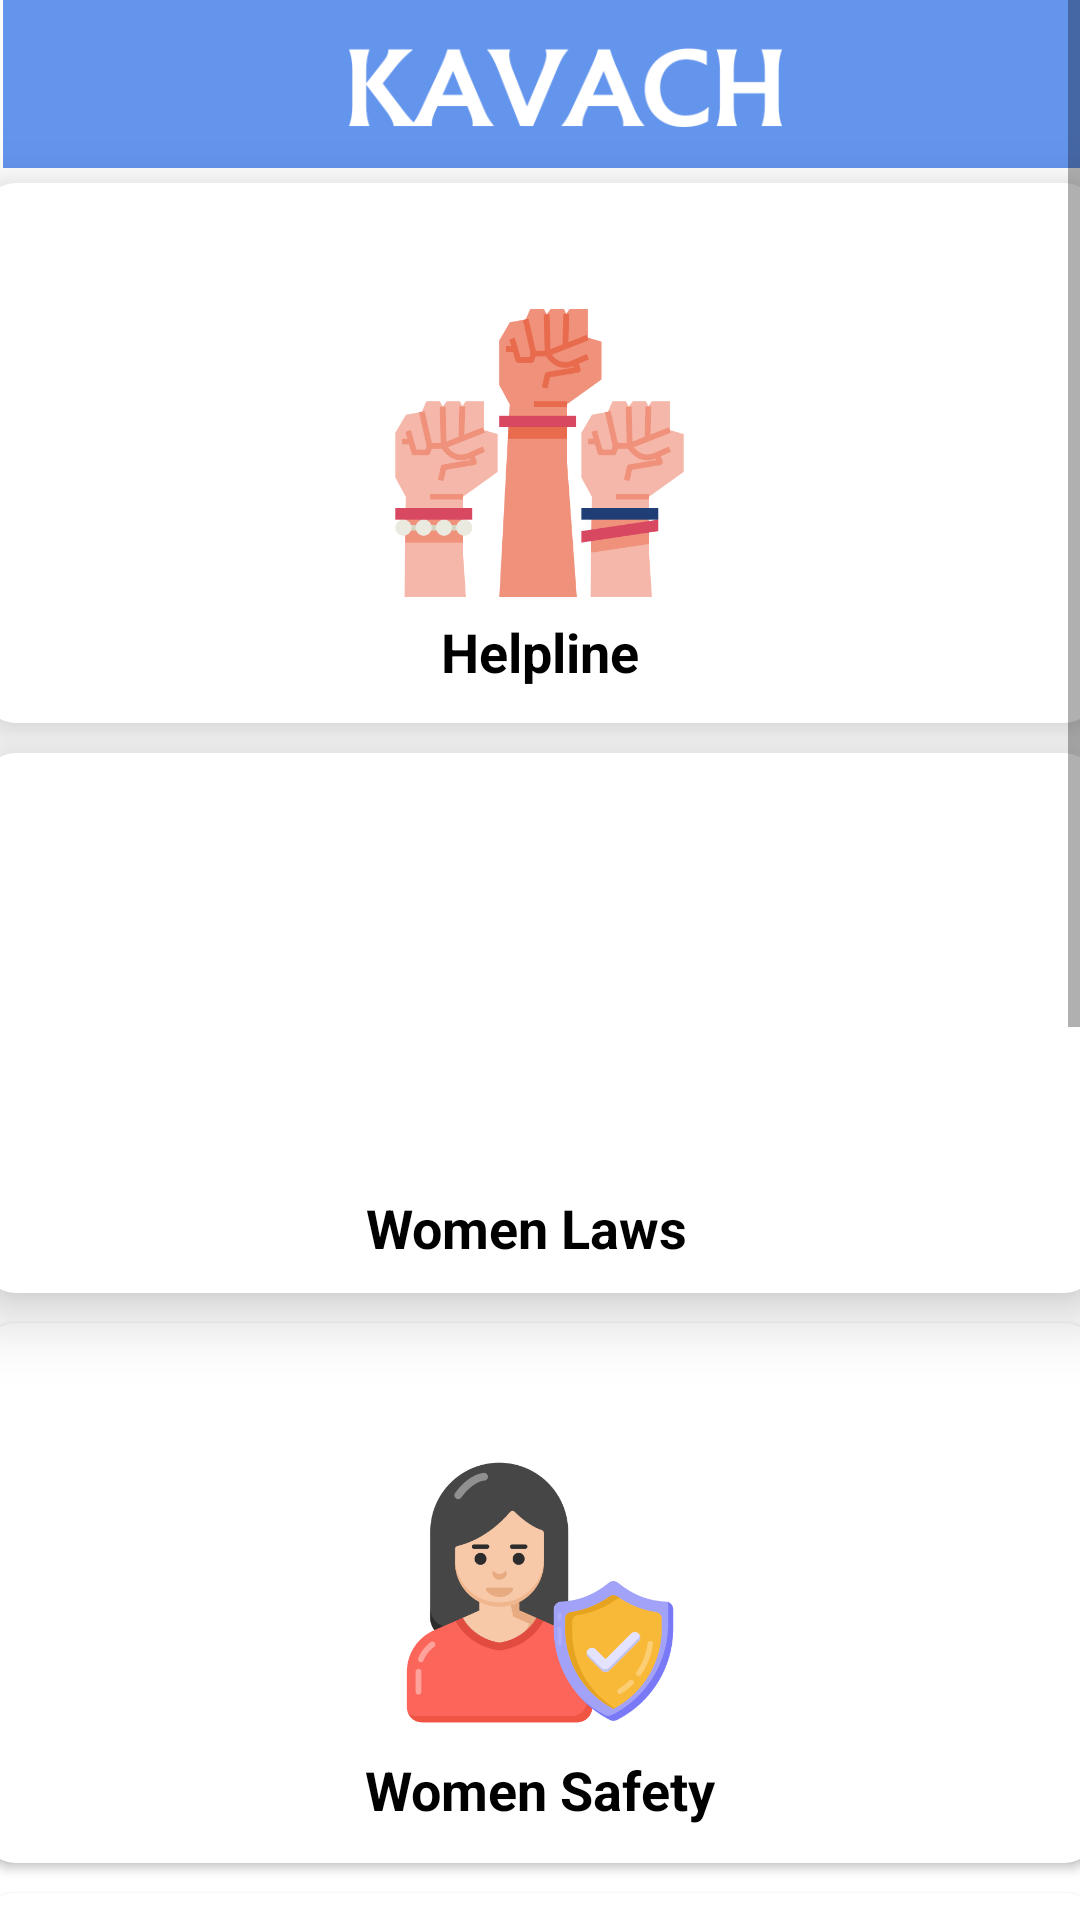

Screen size 1080 x 1920. Icon name, then its box in pixels as (x1, y1, x2, y2):
march: (395, 309, 684, 597)
